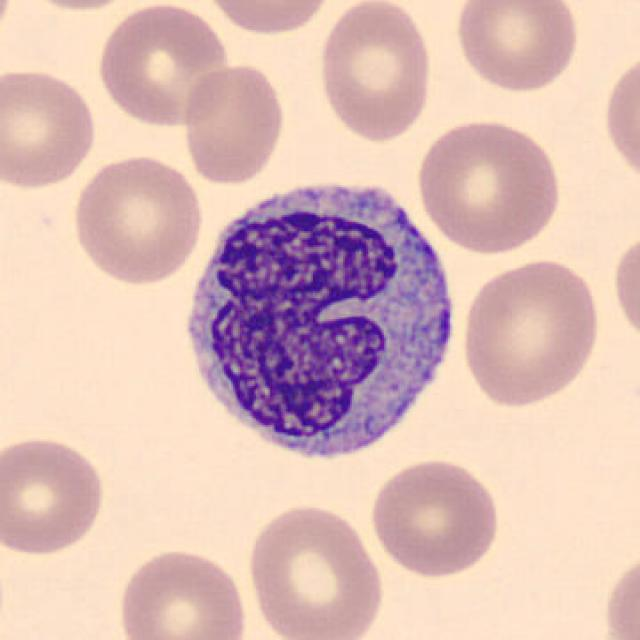Monocyte: (170, 164, 468, 480)
RBC: (457, 256, 604, 409), (412, 114, 566, 256), (242, 499, 388, 640), (68, 150, 206, 287), (92, 0, 233, 129), (314, 0, 436, 145), (366, 455, 503, 580), (178, 60, 288, 187), (0, 430, 108, 558), (112, 543, 251, 640), (0, 65, 100, 192), (450, 0, 583, 95), (599, 46, 640, 192), (198, 0, 340, 37), (608, 225, 640, 352), (601, 543, 640, 640), (10, 0, 146, 14), (585, 0, 640, 18), (0, 0, 18, 51)
